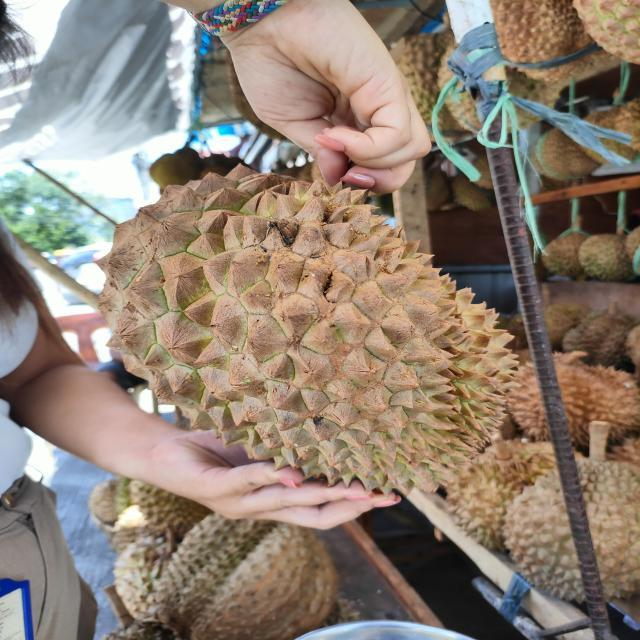mature: (91, 196, 523, 496)
